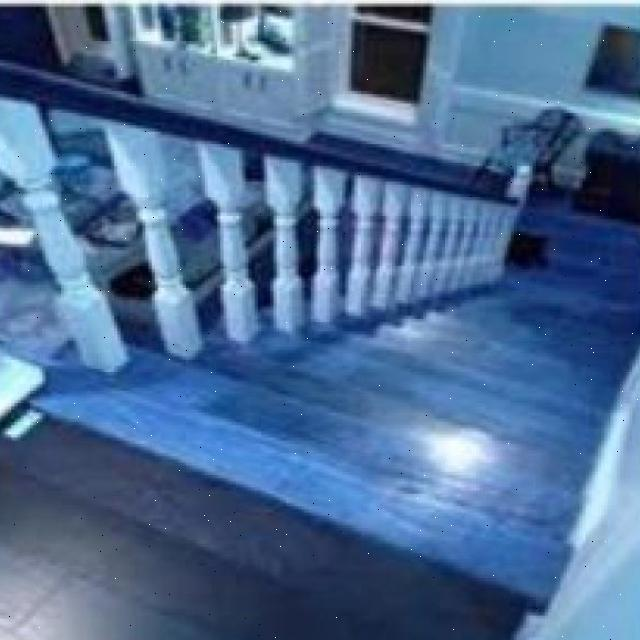stair: (40, 269, 561, 585)
